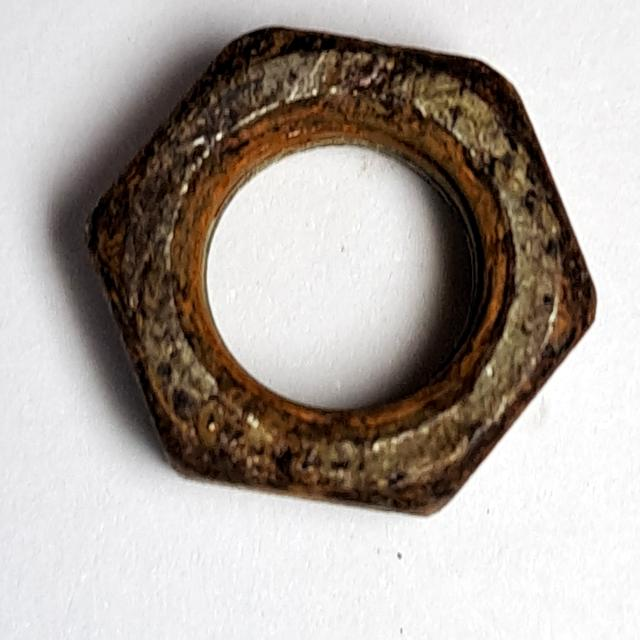Rust: (70, 4, 609, 539)
